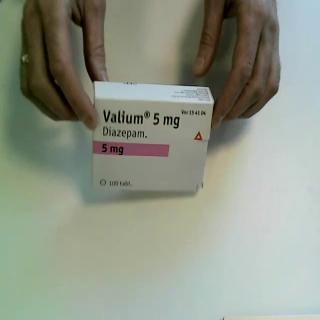valium5mg: (91, 80, 217, 196)
